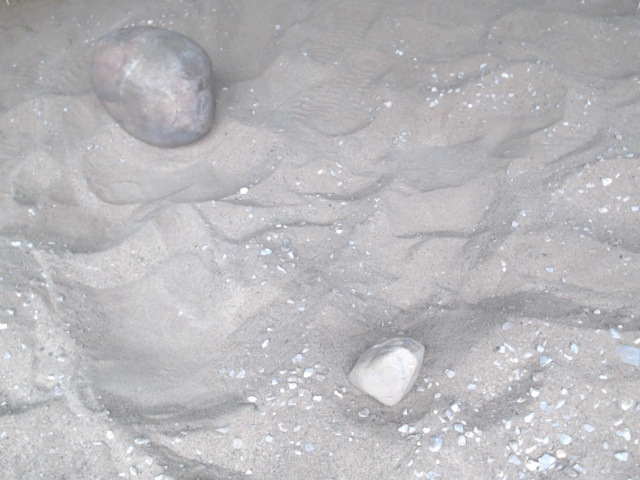rock: (87, 21, 220, 154), (342, 332, 432, 413)
